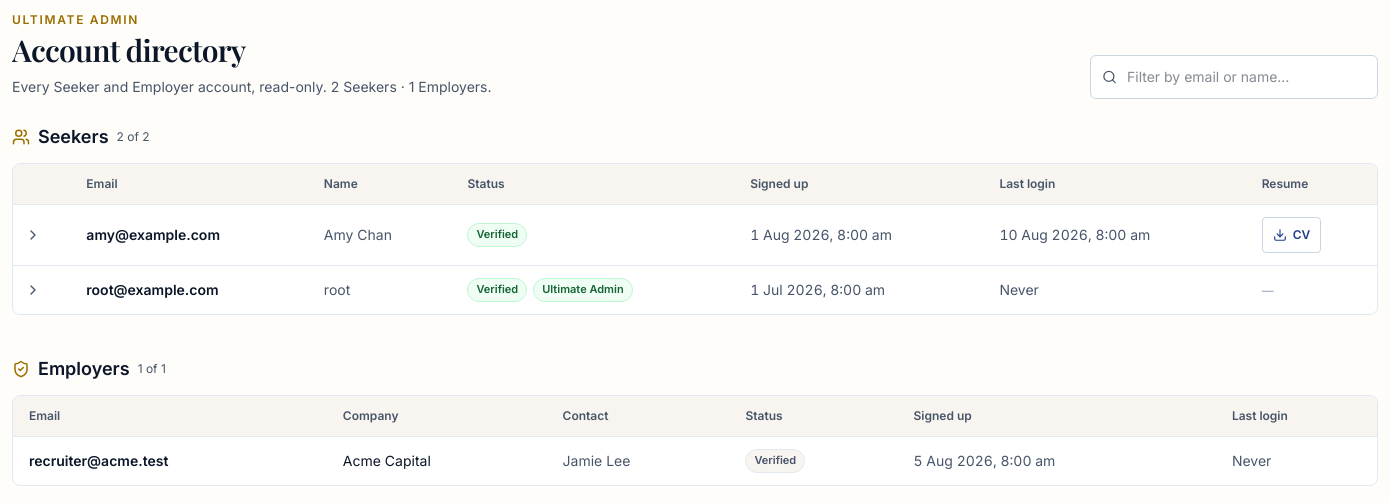
Test: AccountsDirectory › filters both tables together by email, name or company
Step 1. Type "acme" into the search field named "Filter accounts by email or name" → (1234, 77), box [1090,55,1378,99]
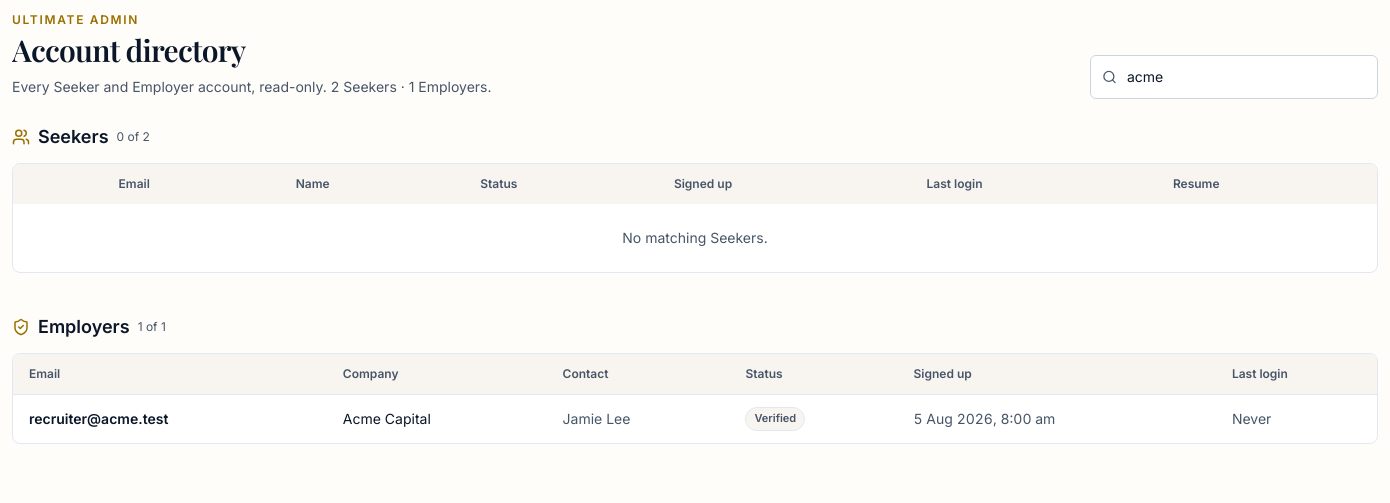
Expected: the column heading "recruiter@acme.test" is shown, [13,394,327,443]
Expected: the column heading "amy@example.com" is gone
Expected: the column heading "root@example.com" is gone
